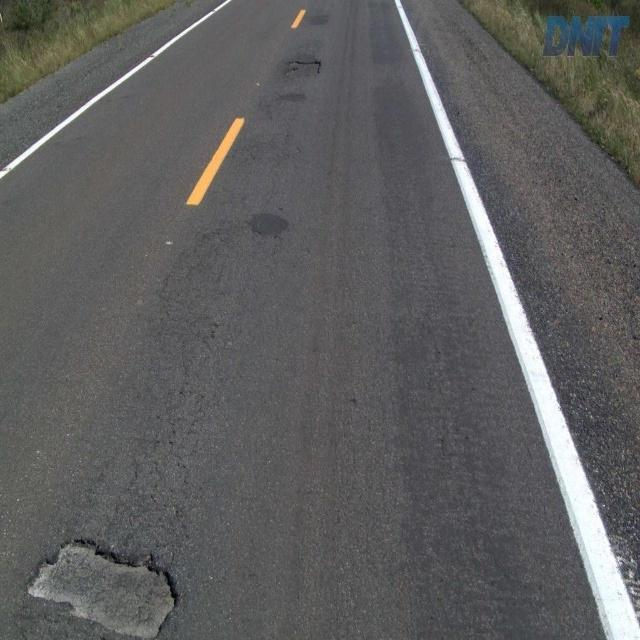pothole: (20, 523, 177, 639), (282, 54, 324, 86)
